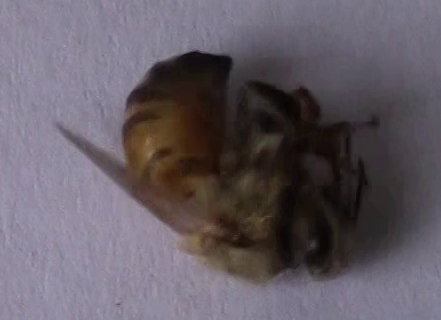Varroa destructor: (295, 81, 323, 125)
